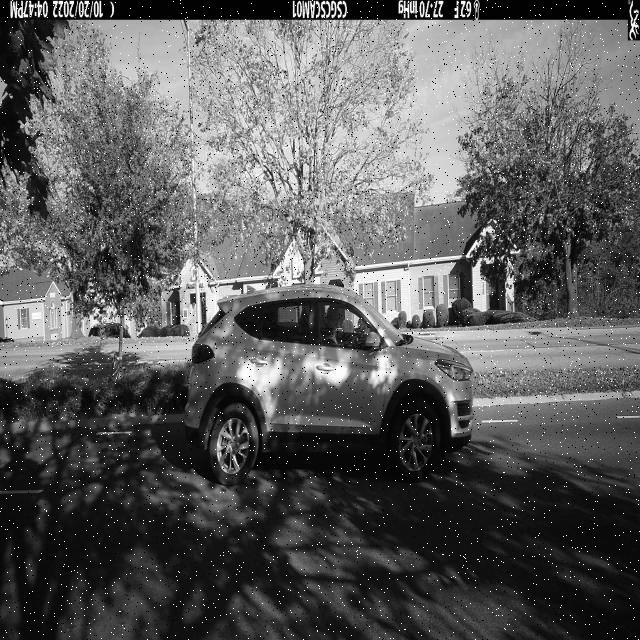SUV: (183, 286, 473, 487)
